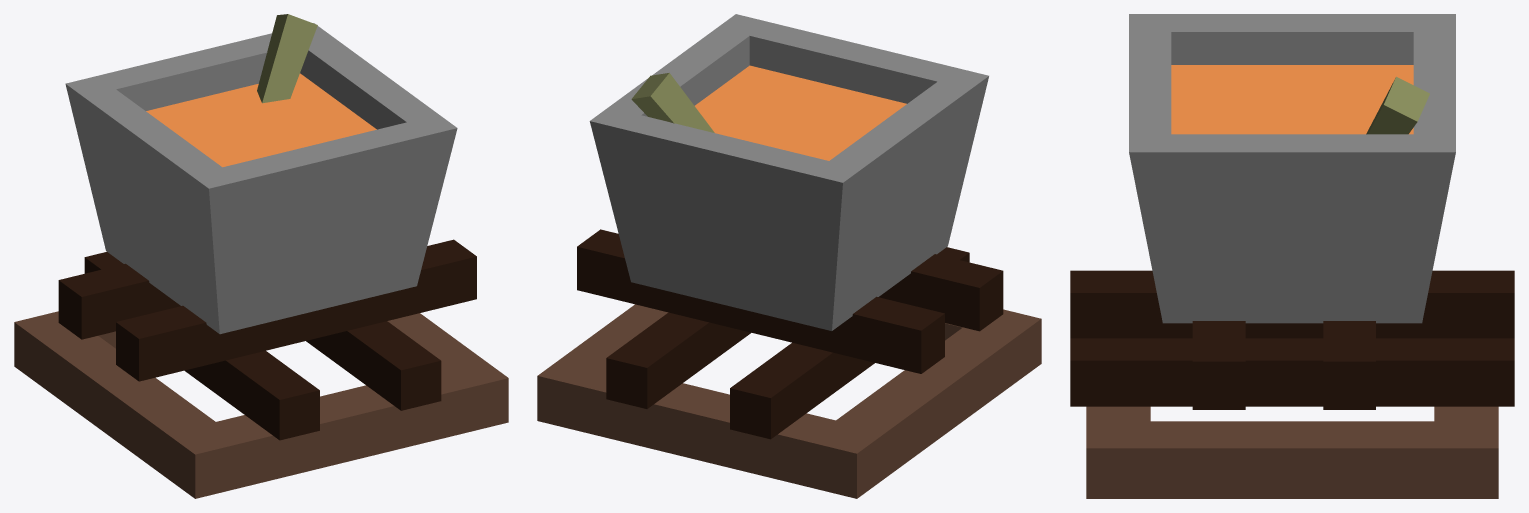
The model's file is Cooking Pot 01.FBX.
The picture shows the model from 3 angles, left to right: view 1: azimuth 30°, elevation 25°; view 2: azimuth 150°, elevation 25°; view 3: azimuth 270°, elevation 25°; orthographic projection. The views are drawn at different scales.
Visible parts, largest first — view 1: Cooking Pot 01; view 2: Cooking Pot 01; view 3: Cooking Pot 01.
Part boxes in pixels (left/top/right/bottom): Cooking Pot 01: left=14, top=14, right=508, bottom=498; Cooking Pot 01: left=537, top=14, right=1041, bottom=498; Cooking Pot 01: left=1070, top=14, right=1514, bottom=498.
Size of the model in its own units: 86.24 by 80.33 by 86.24.
